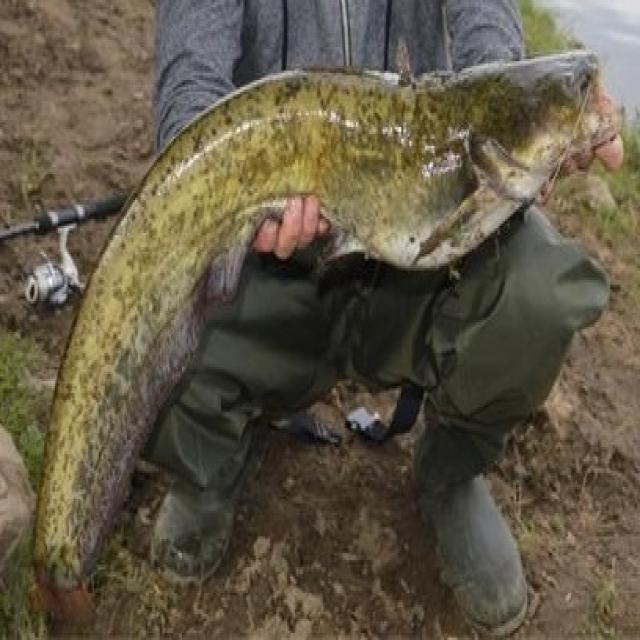Catfish: (37, 34, 630, 573)
